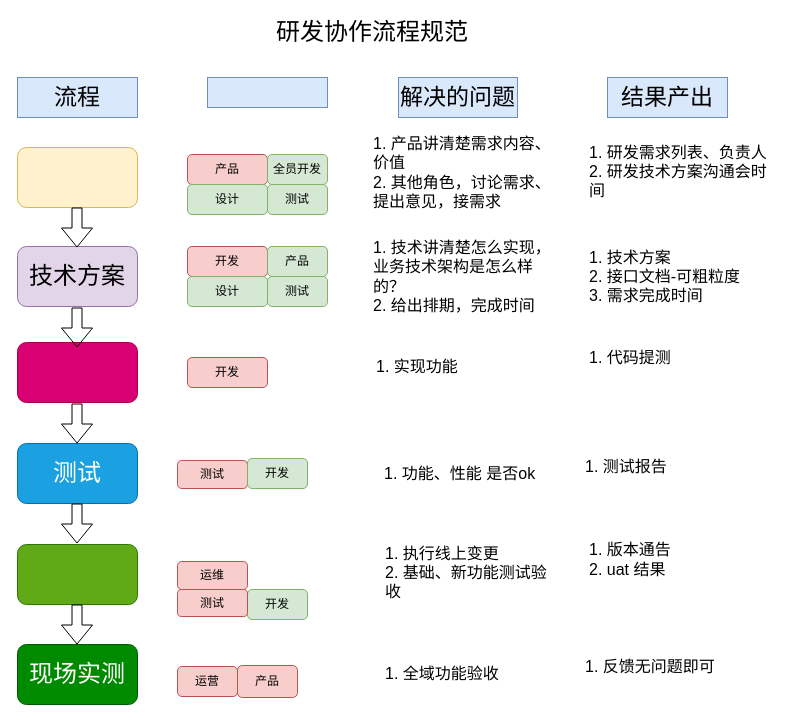
The diagram is 785 pixels wide and 722 high, and some of its shapes have lost their labels. Here are the shapes that lost their labels. From the top down, the box of each, then its label:
(206, 76, 328, 108): 角色
(16, 146, 138, 208): 需求评审
(16, 342, 138, 402): 研发编码
(16, 544, 138, 604): 上线
